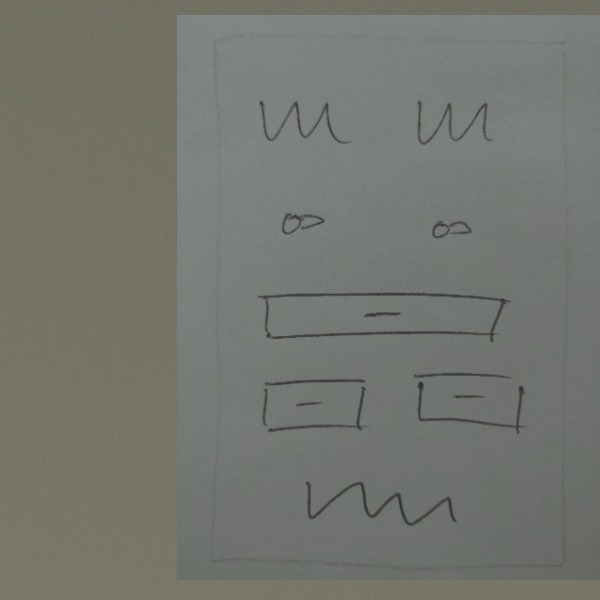button: (250, 284, 513, 354), (408, 364, 529, 441), (256, 370, 376, 440)
switch: (418, 209, 483, 252), (270, 202, 337, 242)
text: (289, 466, 464, 533), (251, 89, 358, 158), (405, 89, 498, 154)
